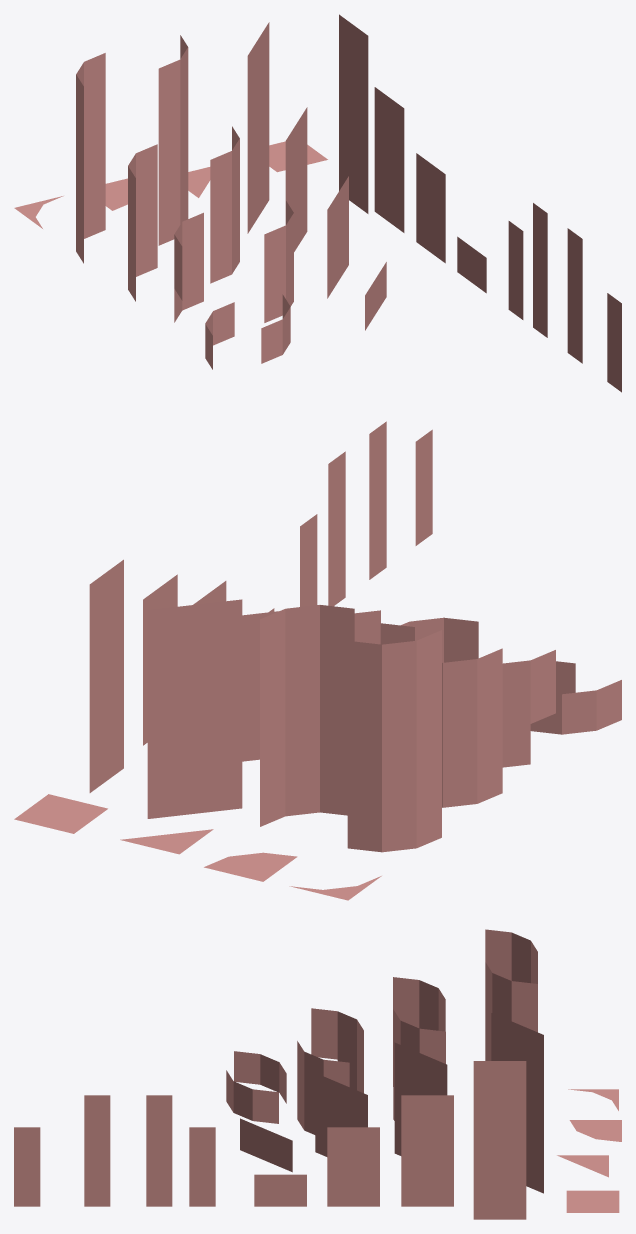
Rendered from StandardBaseWallsFloors.fbx.
3 renders of one model, top to bottom at view 1: azimuth 30°, elevation 25°; view 2: azimuth 150°, elevation 25°; view 3: azimuth 270°, elevation 25°, orthographic. The views are drawn at different scales.
Parts seen in each view (by area): view 1: StandWallCurvedIn5, StandWallCurvedOut5, Standard5, StandAngle5, Standard3_5, StandWallCurvedOut3_5, StandWallCurvedIn3_5, StandWallCurvedIn2_5, Standard2_5, StandWallCurvedOut2_5, StandAngle3_5, StandardHalfR3_5 (+11 smaller); view 2: StandAngle5, StandWallCurvedOut5, StandWallCurvedIn5, StandWallCurvedOut3_5, Standard5, StandWallCurvedOut2_5, StandWallCurvedOut1, StandAngle3_5, StandardHalfR3_5, StandardHalfL3_5, FloorTile, StandWallCurvedIn2_5 (+6 smaller); view 3: Standard5, Standard3_5, StandAngle5, Standard2_5, StandardHalfL3_5, StandardHalfR3_5, StandWallCurvedOut2_5, StandAngle3_5, StandAngle2_5, StandWallCurvedIn5, StandWallCurvedOut3_5, StandWallCurvedOut5 (+11 smaller).
Boxes of the visible parts, x1=… form: StandWallCurvedIn5: x1=158, y1=35, x2=188, y2=245; StandWallCurvedOut5: x1=76, y1=53, x2=105, y2=263; Standard5: x1=339, y1=14, x2=368, y2=213; StandAngle5: x1=247, y1=22, x2=269, y2=233; Standard3_5: x1=374, y1=87, x2=404, y2=232; StandWallCurvedOut3_5: x1=128, y1=144, x2=157, y2=301; StandWallCurvedIn3_5: x1=210, y1=126, x2=239, y2=283; StandWallCurvedIn2_5: x1=264, y1=201, x2=293, y2=322; Standard2_5: x1=416, y1=153, x2=445, y2=263; StandWallCurvedOut2_5: x1=174, y1=212, x2=203, y2=322; StandAngle3_5: x1=285, y1=107, x2=307, y2=251; StandardHalfR3_5: x1=567, y1=228, x2=582, y2=363; StandAngle5: x1=147, y1=599, x2=242, y2=818; StandWallCurvedOut5: x1=347, y1=630, x2=441, y2=852; StandWallCurvedIn5: x1=260, y1=605, x2=354, y2=826; StandWallCurvedOut3_5: x1=442, y1=648, x2=502, y2=807; Standard5: x1=89, y1=559, x2=123, y2=792; StandWallCurvedOut2_5: x1=461, y1=650, x2=555, y2=767; StandWallCurvedOut1: x1=530, y1=680, x2=621, y2=734; StandAngle3_5: x1=242, y1=611, x2=278, y2=761; StandardHalfR3_5: x1=369, y1=421, x2=386, y2=579; StandardHalfL3_5: x1=328, y1=451, x2=345, y2=606; FloorTile: x1=14, y1=794, x2=107, y2=833; StandWallCurvedIn2_5: x1=401, y1=617, x2=478, y2=662; Standard5: x1=473, y1=1061, x2=526, y2=1219; Standard3_5: x1=401, y1=1095, x2=453, y2=1206; StandAngle5: x1=491, y1=1013, x2=543, y2=1193; Standard2_5: x1=327, y1=1127, x2=379, y2=1206; StandardHalfL3_5: x1=146, y1=1095, x2=172, y2=1206; StandardHalfR3_5: x1=84, y1=1095, x2=110, y2=1206; StandWallCurvedOut2_5: x1=311, y1=1008, x2=363, y2=1093; StandAngle3_5: x1=394, y1=1042, x2=447, y2=1155; StandAngle2_5: x1=315, y1=1073, x2=367, y2=1156; StandWallCurvedIn5: x1=485, y1=962, x2=537, y2=1060; StandWallCurvedOut3_5: x1=393, y1=977, x2=445, y2=1086; StandWallCurvedOut5: x1=485, y1=929, x2=537, y2=983.
Size of the model in its own units: 8.87 by 5.34 by 17.36.
